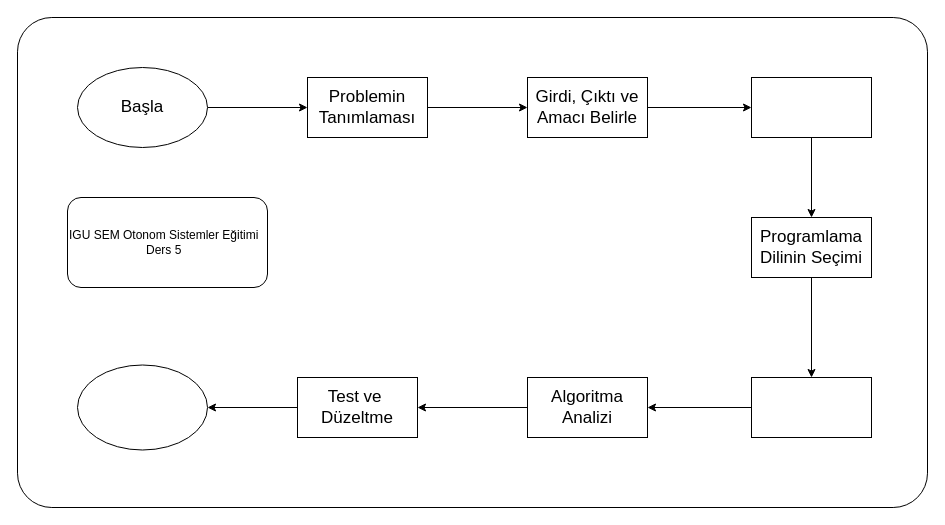
The diagram is 945 pixels wide and 525 high, and some of its shapes have lost their labels. The shapes that lost their labels are listed below. From the top down, each one's centre as x and y in pixels, then its label:
the point at 811,107: Algoritma Tasarımı
the point at 142,407: Bitir
the point at 811,407: Algoritmayı Kodlama
